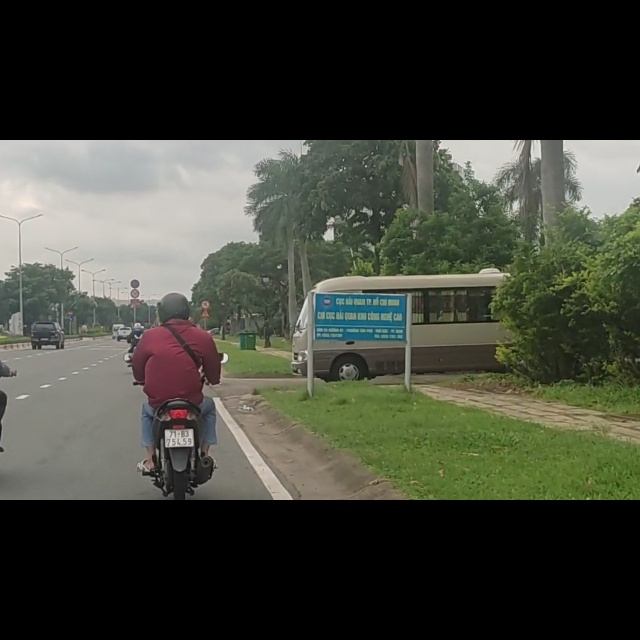bien_hieu_lenh: (200, 301, 211, 316), (130, 248, 140, 264), (201, 284, 211, 300), (131, 265, 140, 282), (67, 302, 74, 313), (67, 313, 74, 324)
